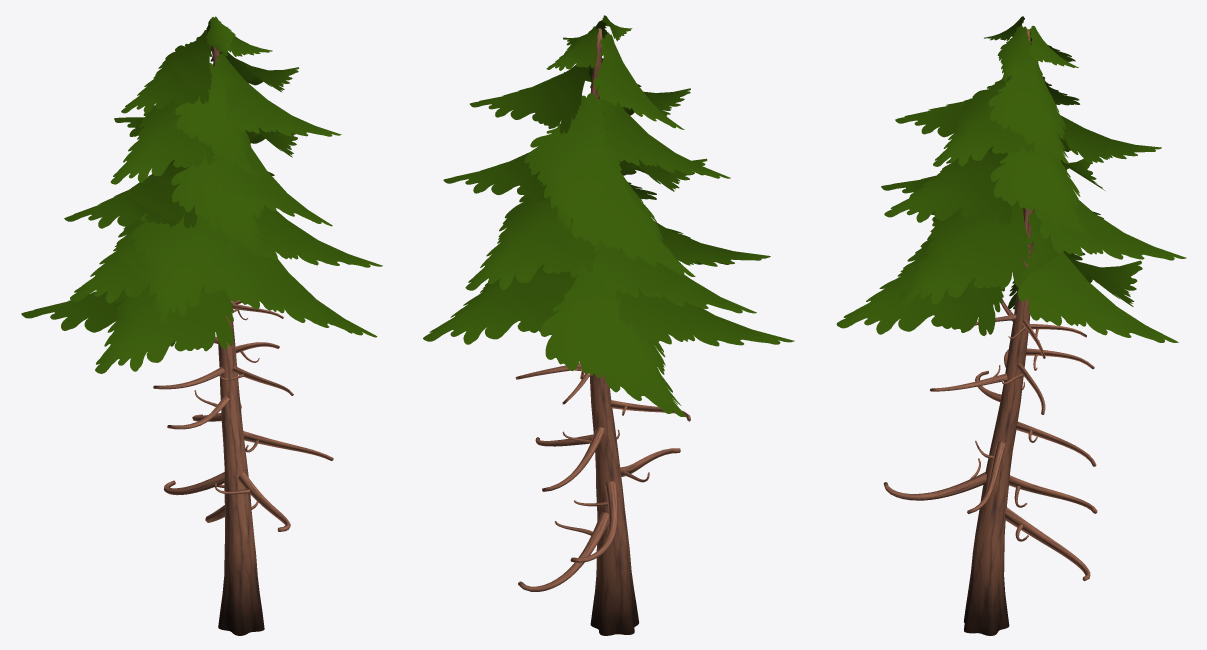
The model's file is Pine_3.glb.
The picture shows the model from 3 angles, left to right: view 1: azimuth 30°, elevation 25°; view 2: azimuth 150°, elevation 25°; view 3: azimuth 270°, elevation 25°; orthographic projection. The views are drawn at different scales.
Visible parts, largest first — view 1: Pine_3; view 2: Pine_3; view 3: Pine_3.
Part boxes in pixels (<box>): Pine_3: <box>21,16,382,635</box>; Pine_3: <box>423,15,794,635</box>; Pine_3: <box>836,16,1186,635</box>.
Bounding box in the file's own units: 3.61 × 7.39 × 4.
2 materials, 2 textured.
